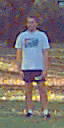person: (10, 14, 51, 117)
